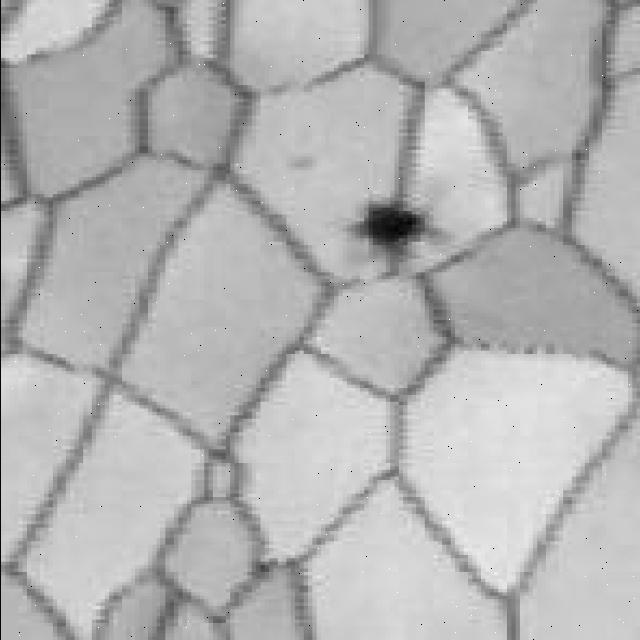good_void: (358, 194, 445, 264)
